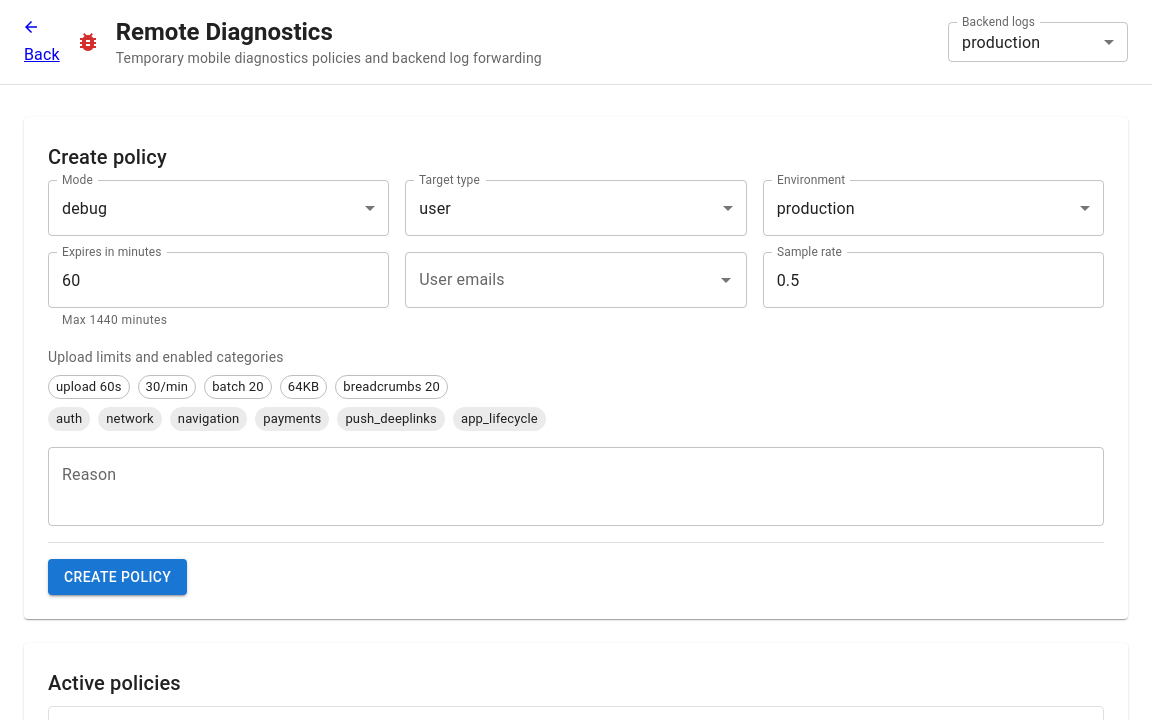
Test: RemoteDiagnosticsPage › keeps target-specific fields directly under the target type selector
Check: the dropdown labelled "User emails" is shown, box [414,261,708,299]
Check: the button named "Open" is shown, box [712,266,740,294]
Select "platform" in the dropdown labelled "Target type". click: (576, 208)
box: [405,180,747,236]
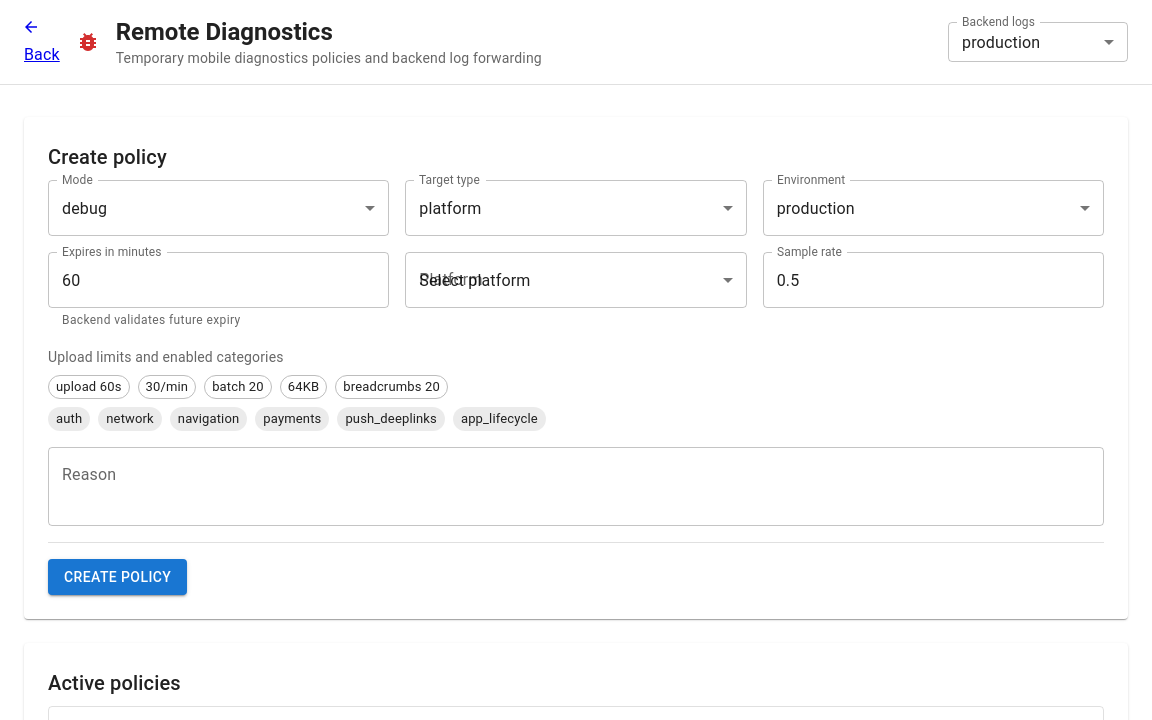
Check: the dropdown labelled "Platform" is shown, box [405,252,747,308]
Select "app_version_build" in the dropdown labelled "Target type". click: (576, 208)
box: [405,180,747,236]
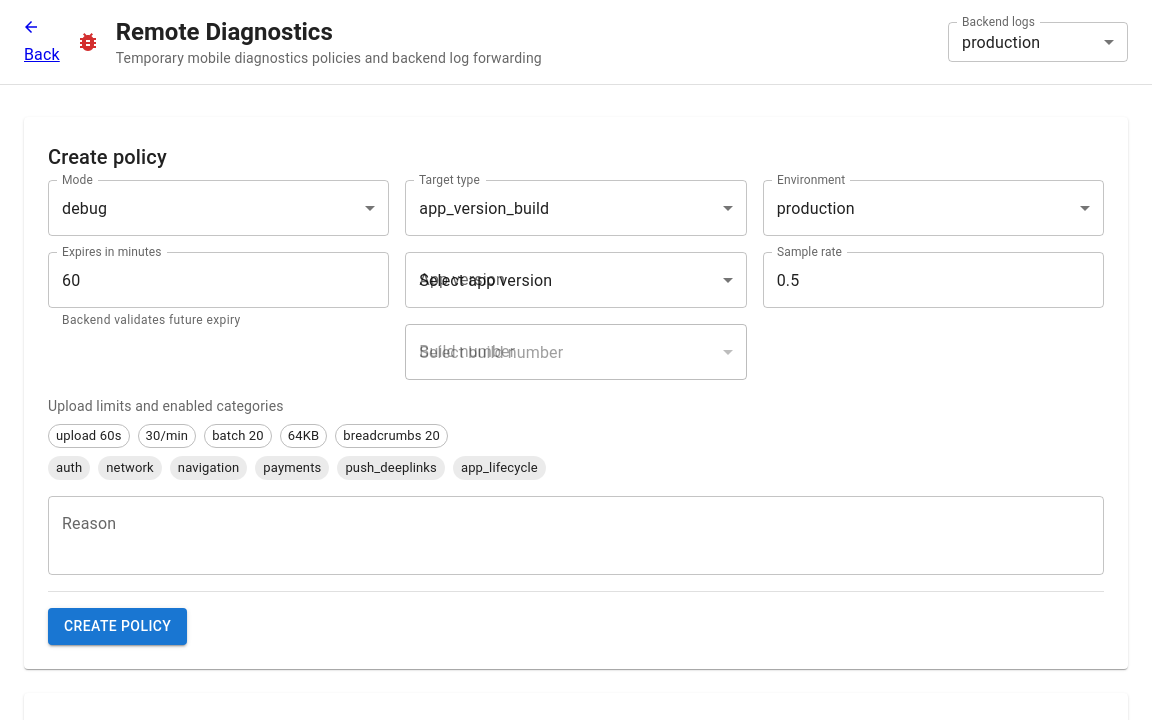
Check: the dropdown labelled "App version" is shown, box [405,252,747,308]
Check: the dropdown labelled "Build number" is shown, box [405,324,747,380]
Check: the label labelled "Platform" is gone
